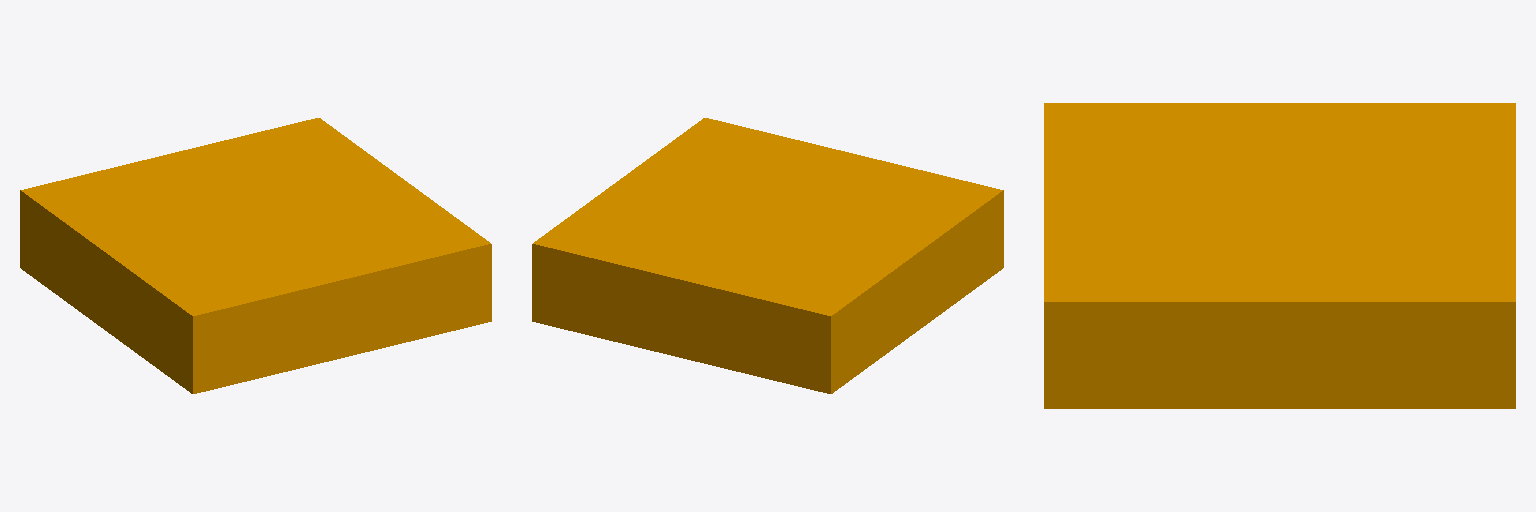
URDF robot description (surface):
<?xml version="1.0"?>
<robot name="surface">
  <link name="base_link">

    <collision>
      <geometry>
        <box size="4 4 1"/>
      </geometry>
    </collision>

    <inertial>
      <mass value="50"/>
    	<inertia ixx="108" ixy="0" ixz="0" iyy="421" iyz="0" izz="521"/>
  	</inertial>

    <visual>
      <geometry>
        <box size="4 4 1"/>
      </geometry>
    </visual>

  </link>
</robot>

--- Facts derived from the render (not from the file) ---
Views: 3 orthographic renders of the robot side by side, from view 1: azimuth 30°, elevation 25°; view 2: azimuth 150°, elevation 25°; view 3: azimuth 270°, elevation 25°.
Robot: surface — 1 links, 0 joints (none); root link base_link; default pose: all joints at 0.
Links seen in each view (by area): view 1: base_link; view 2: base_link; view 3: base_link.
Boxes of the visible links, bbox=[...] form: base_link: bbox=[20, 118, 491, 393]; base_link: bbox=[532, 118, 1003, 393]; base_link: bbox=[1044, 103, 1515, 408].
Bounding box of the posed robot: 4 × 4 × 1 m (x, y, z).
Geometry: primitives only (box / cylinder / sphere), no mesh files.